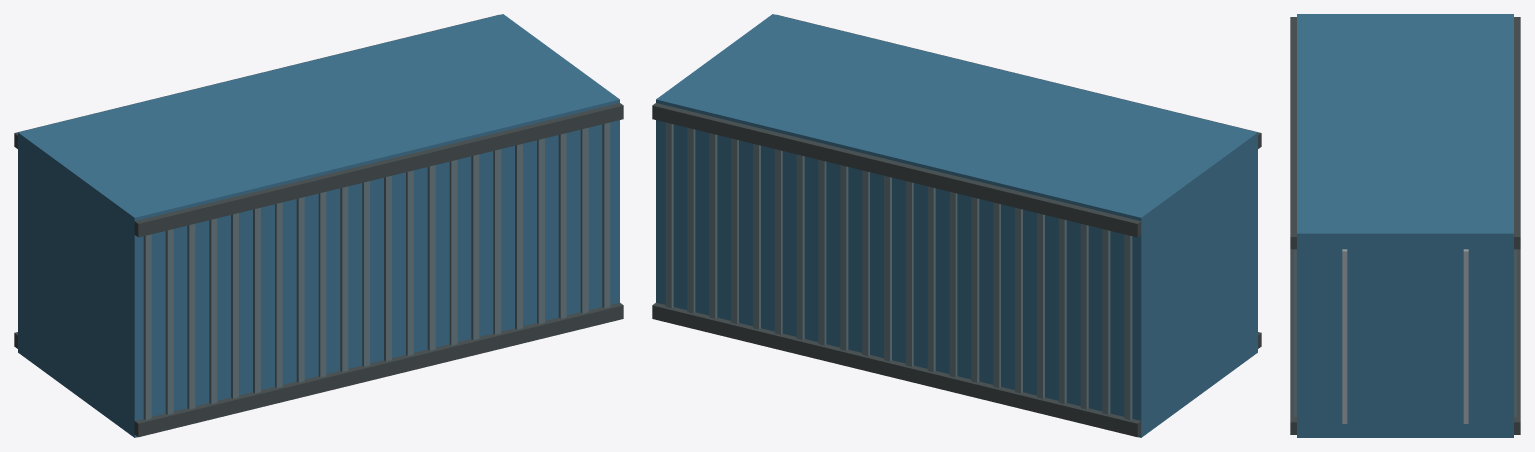
Rendered from shipping_container.glb.
The picture shows the model from 3 angles, left to right: view 1: azimuth 30°, elevation 25°; view 2: azimuth 150°, elevation 25°; view 3: azimuth 270°, elevation 25°; orthographic projection. The views are drawn at different scales.
Parts seen in each view (by area): view 1: shipping_container; view 2: shipping_container; view 3: shipping_container.
Boxes of the visible parts, box(x1,y1,x2,y2) form: shipping_container: box(14, 14, 623, 437); shipping_container: box(652, 14, 1261, 437); shipping_container: box(1290, 14, 1520, 437).
Bounding box in the file's own units: 6.05 × 2.6 × 2.66.
